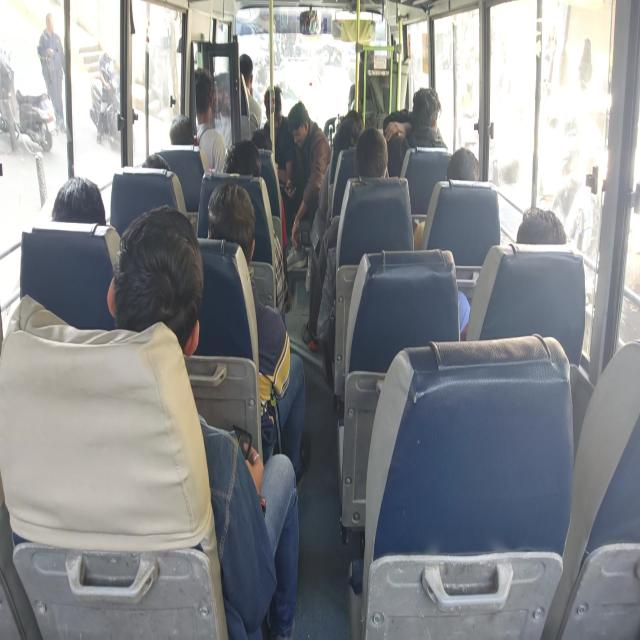person: (133, 222, 203, 349), (508, 198, 558, 262), (52, 171, 101, 227), (204, 186, 250, 244), (355, 137, 387, 196), (449, 150, 489, 192), (409, 99, 439, 152), (224, 141, 258, 174), (288, 102, 313, 144), (170, 114, 198, 144), (250, 129, 278, 157), (264, 94, 280, 132), (144, 156, 172, 175), (194, 74, 209, 108), (340, 119, 360, 144), (239, 56, 254, 86), (355, 41, 372, 64)
